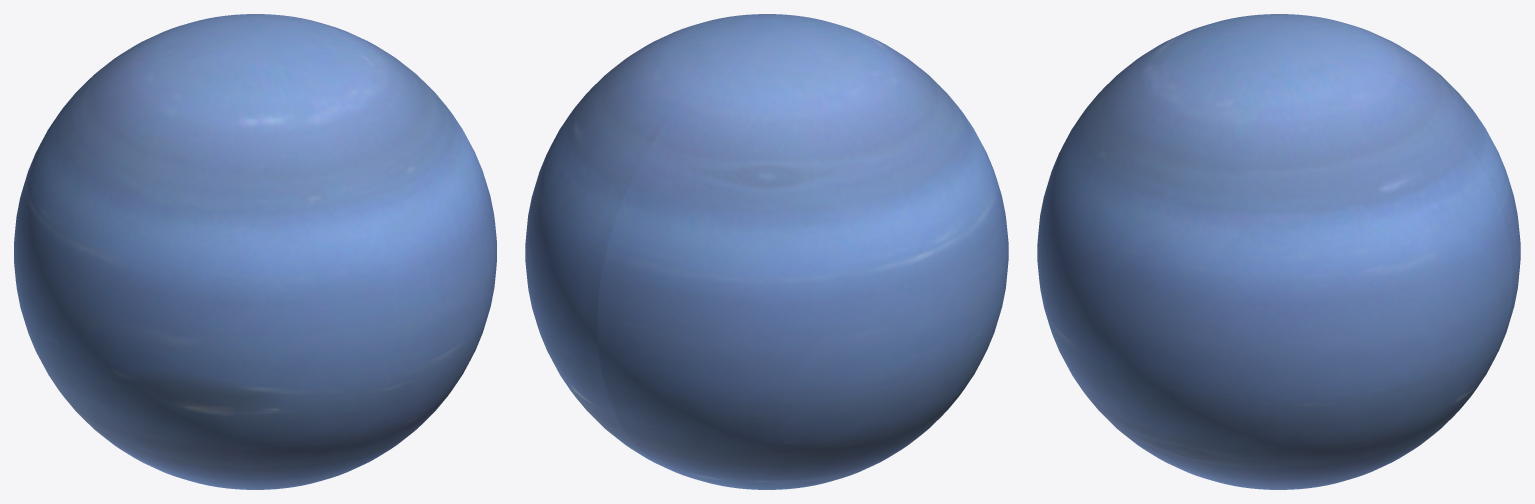
File: neptune.glb
3 renders of one model, left to right at view 1: azimuth 30°, elevation 25°; view 2: azimuth 150°, elevation 25°; view 3: azimuth 270°, elevation 25°, orthographic.
Parts seen in each view (by area): view 1: Neptune; view 2: Neptune; view 3: Neptune.
Boxes of the visible parts, x1,y1,x2,y2 form: Neptune: (14,14,496,489); Neptune: (525,14,1008,489); Neptune: (1037,14,1520,489).
Size of the model in its own units: 1000 by 983 by 1000.
Materials: 1 (1 with a texture image).
